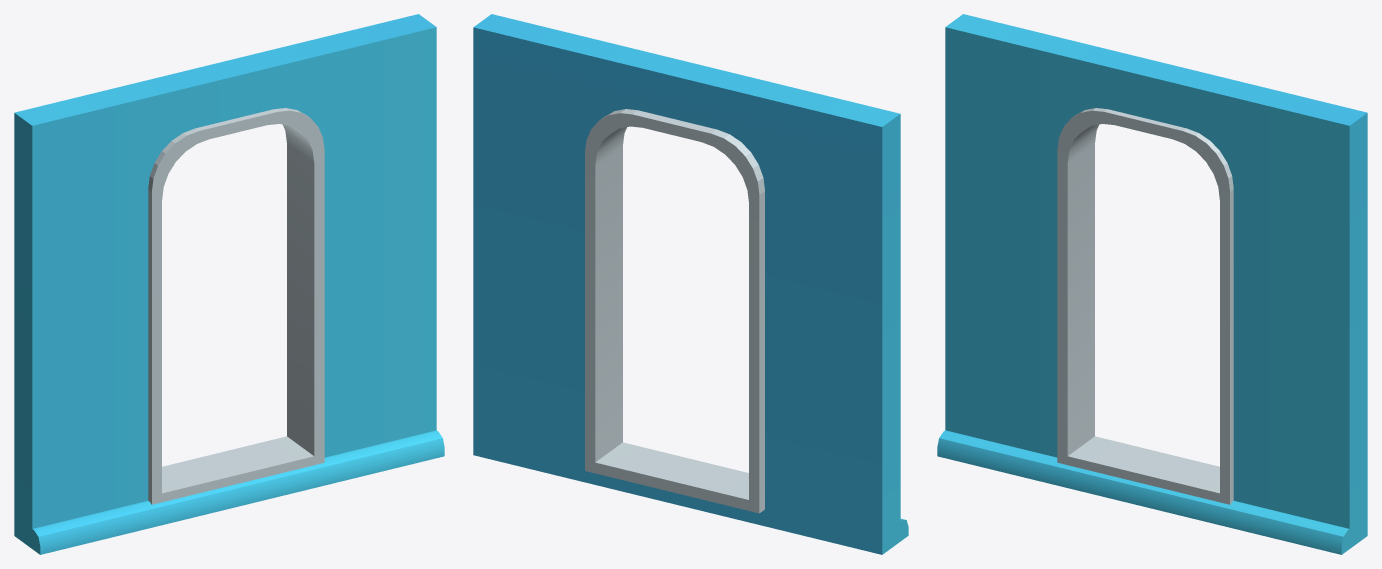
File: DoorWall001.fbx
3 renders of one model, left to right at view 1: azimuth 30°, elevation 25°; view 2: azimuth 150°, elevation 25°; view 3: azimuth 330°, elevation 25°, orthographic.
Visible parts, largest first — view 1: DoorWall001; view 2: DoorWall001; view 3: DoorWall001.
Part boxes in pixels (left/top/right/bottom): DoorWall001: left=14, top=14, right=444, bottom=554; DoorWall001: left=473, top=14, right=908, bottom=554; DoorWall001: left=937, top=14, right=1367, bottom=554.
Bounding box in the file's own units: 250 × 250 × 33.87.
